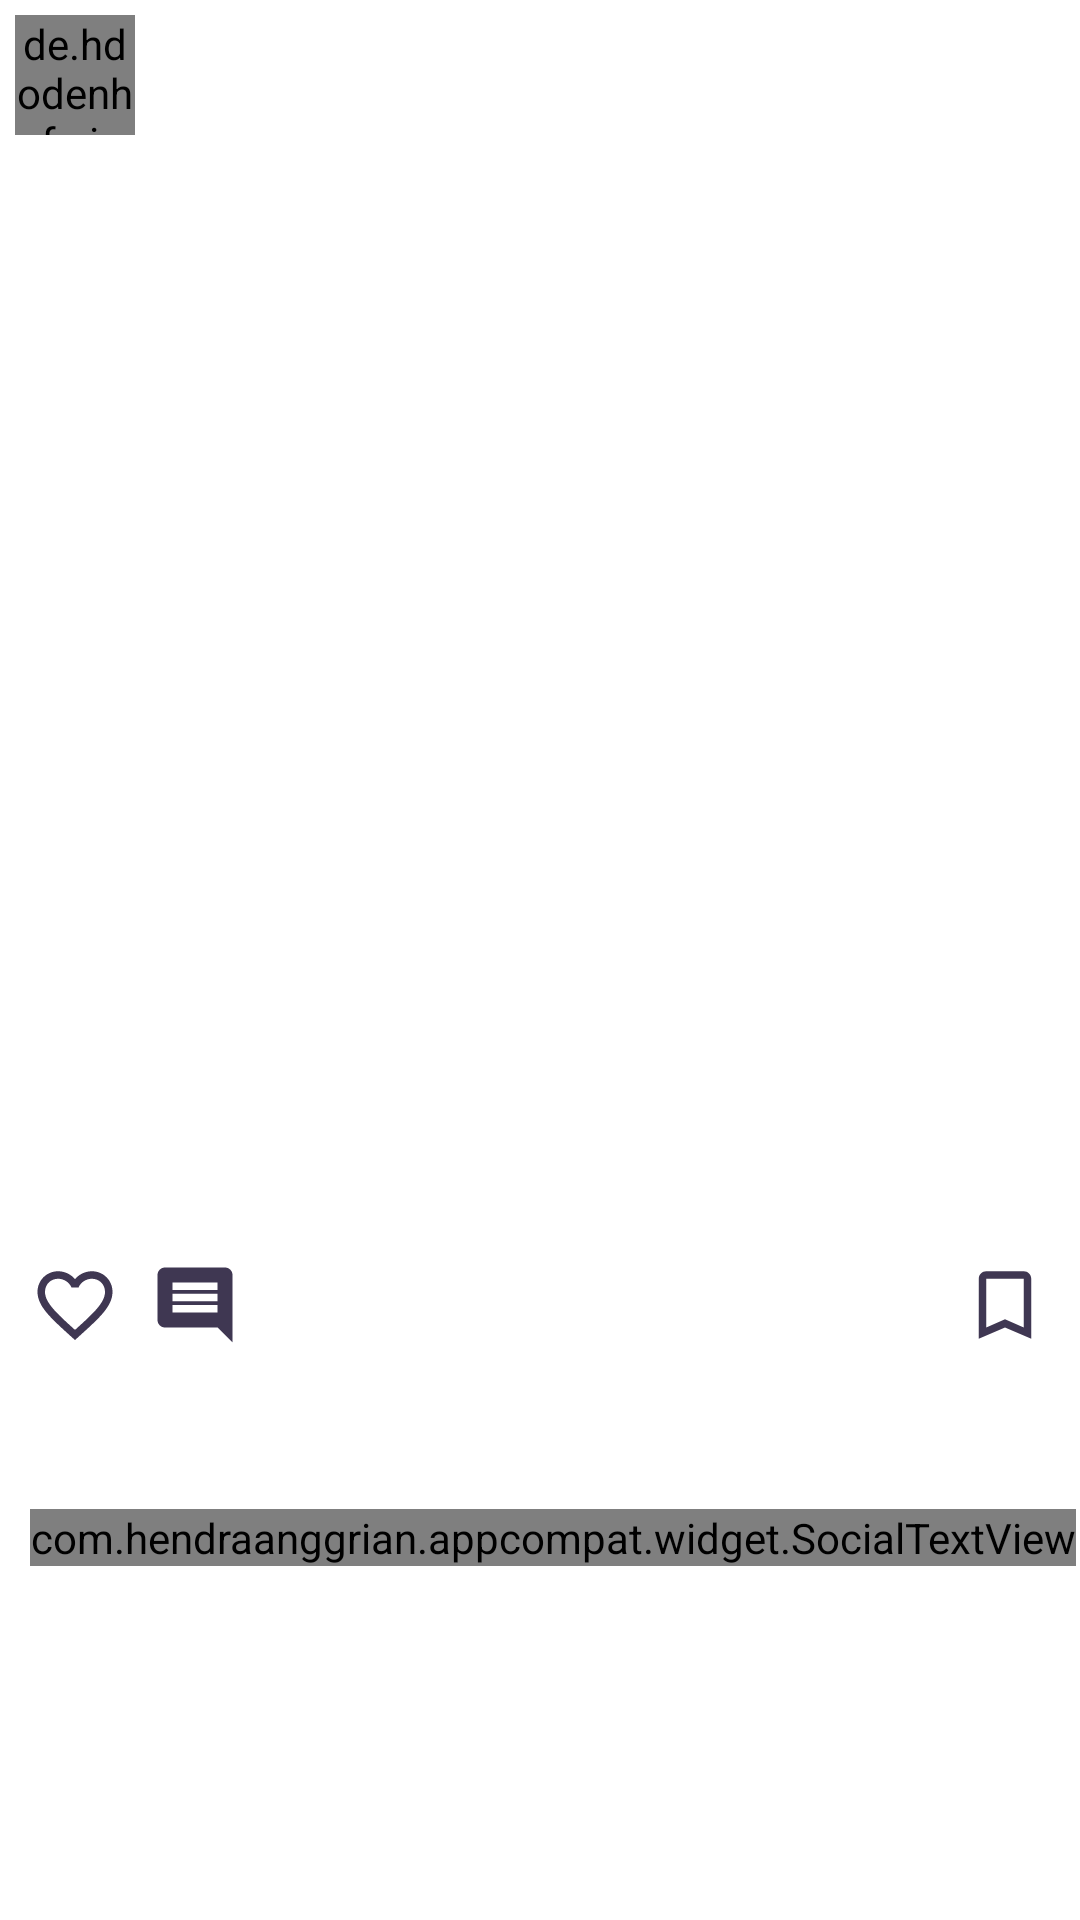

Named icons in this screenshot (1080×1920) and their bounding boxes, bbox=(x1, y1, x2, y2):
comment: bbox=(157, 1267, 233, 1342)
like: bbox=(37, 1271, 113, 1340)
save: bbox=(978, 1271, 1032, 1339)
